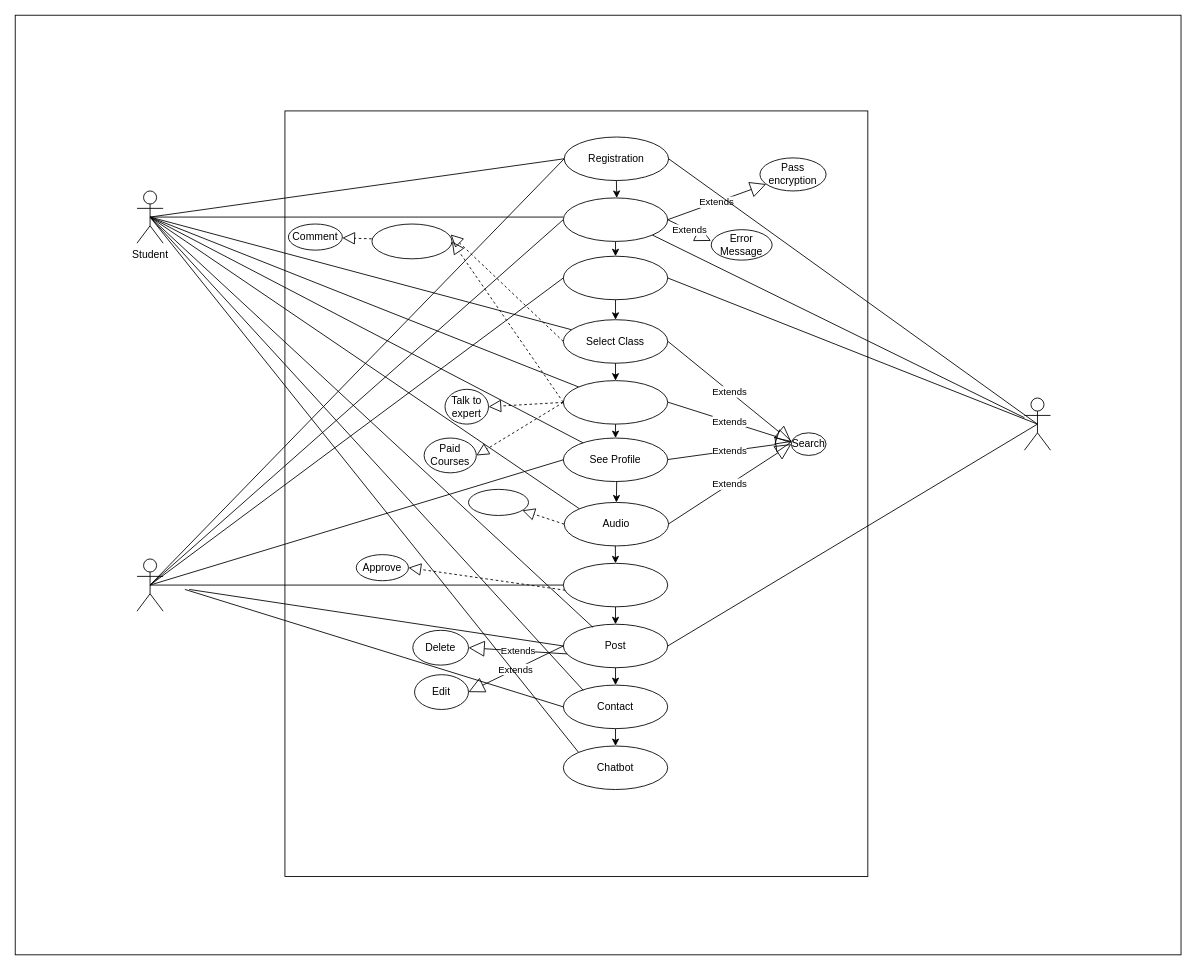
Image size: 1196x970. Some labels were removed from this diagram. The shapes that lost their labels are listed below. From the top down, each one's centre as x and y in pixels, then its label:
point (615, 219): Login
point (411, 241): Watch video list
point (615, 277): Dashboard
point (615, 402): Build Career
point (1037, 423): Admin
point (498, 502): Podcast
point (149, 584): Teacher
point (615, 584): Upload Video
